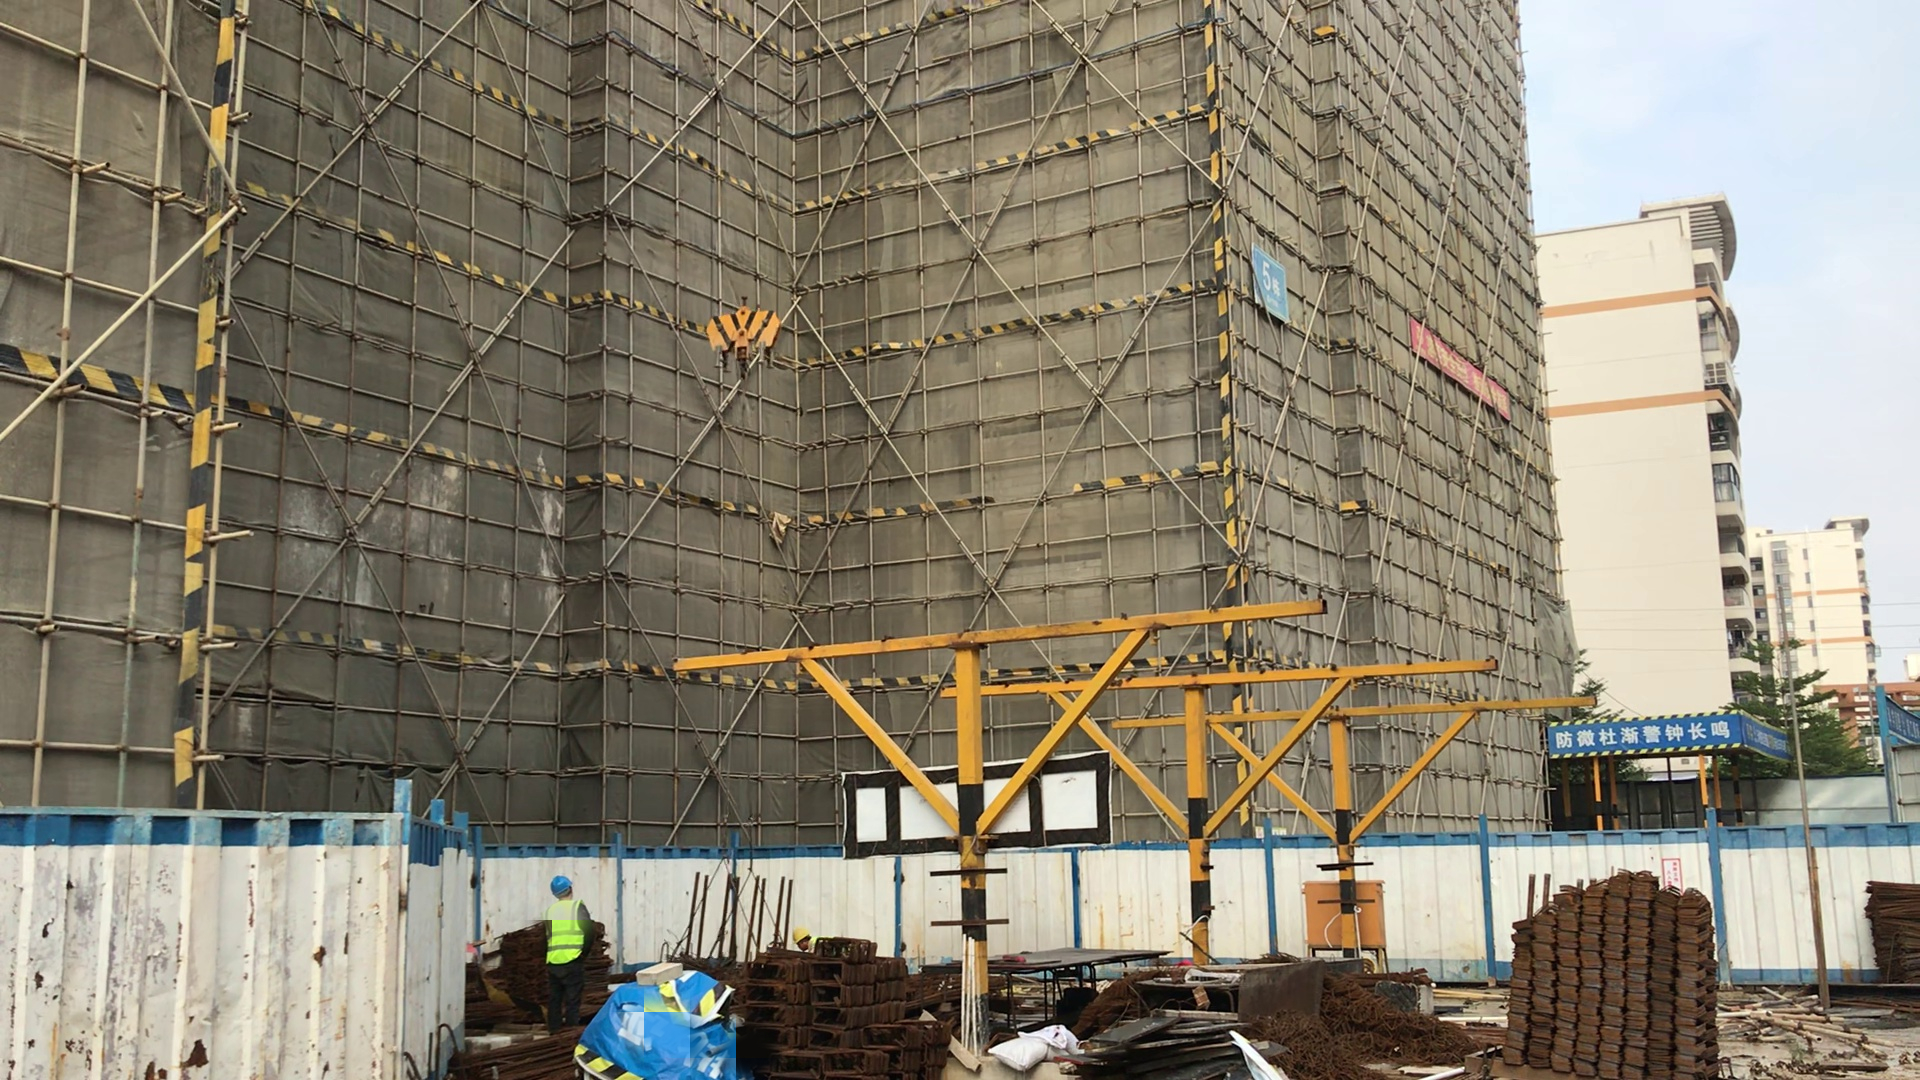helmet: (547, 868, 576, 894), (792, 929, 812, 944)
hook: (700, 299, 794, 385)
person: (536, 870, 597, 1032)
slogan: (1390, 308, 1532, 454), (1511, 700, 1728, 771)
vest: (550, 901, 583, 970)
